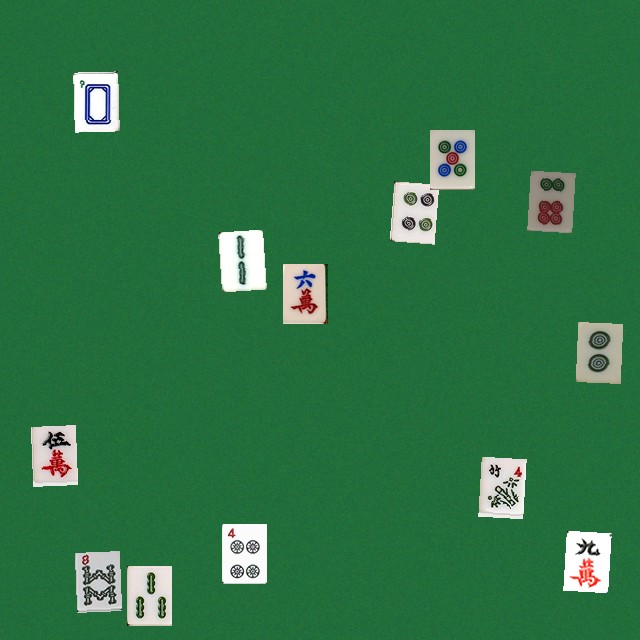tile: (73, 71, 118, 131), (478, 456, 523, 516), (221, 523, 266, 583), (218, 229, 263, 289), (126, 565, 171, 625), (575, 322, 620, 382), (527, 170, 572, 230), (563, 530, 608, 590), (74, 551, 119, 611), (30, 425, 75, 485), (389, 181, 434, 241), (282, 263, 327, 323), (429, 129, 474, 189)
